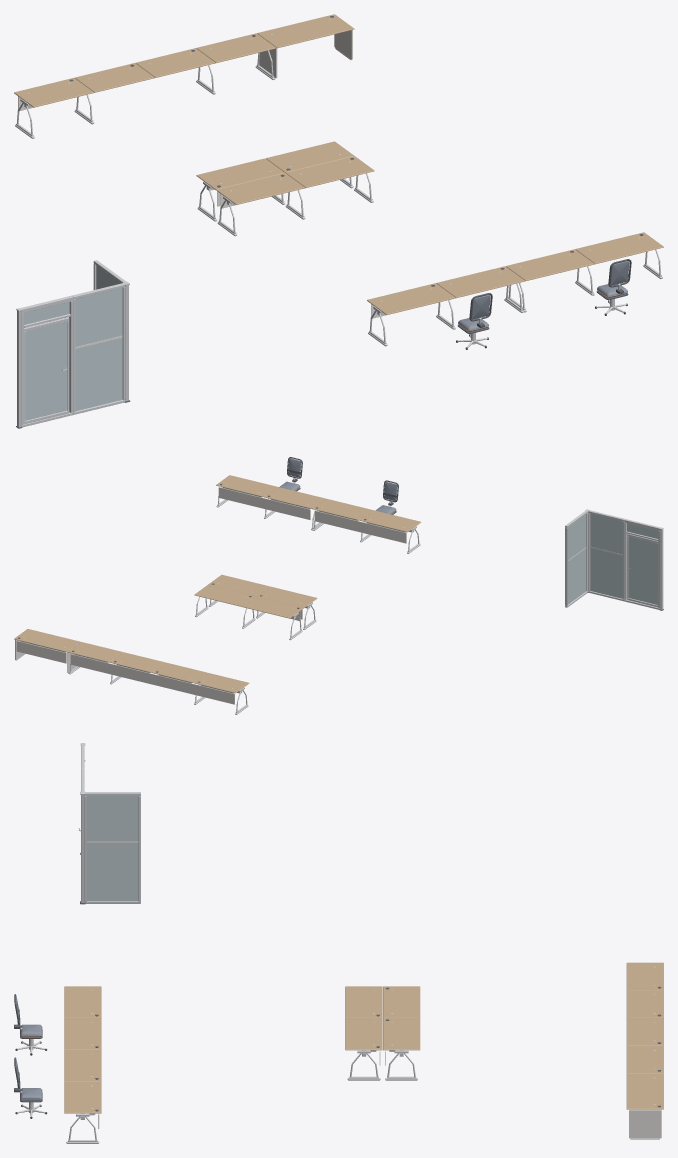
File: downtown-office-interiors-connector-cases-d6274a2d__17068.glb
The picture shows the model from 3 angles, top to bottom: view 1: azimuth 30°, elevation 25°; view 2: azimuth 150°, elevation 25°; view 3: azimuth 270°, elevation 25°; orthographic projection. The views are drawn at different scales.
Visible parts, largest first — view 1: 006-glazed-partition-module/1, 009-bench-desk-4-position/1, 005-glazed-partition-door-module/partition-door/glass, 000-bench-desk-2-position/1, 002-bench-desk-2-position/1, 001-bench-desk-2-position/1, 003-bench-desk-2-position/1, 010-bench-desk-end-bay/2, 005-glazed-partition-door-module/0, 006-glazed-partition-module/0, 009-bench-desk-4-position/0, 010-bench-desk-end-bay/0 (+5 smaller); view 2: 006-glazed-partition-module/1, 009-bench-desk-4-position/1, 009-bench-desk-4-position/3, 005-glazed-partition-door-module/partition-door/glass, 008-glazed-partition-module/1, 003-bench-desk-2-position/1, 000-bench-desk-2-position/1, 001-bench-desk-2-position/1, 002-bench-desk-2-position/1, 000-bench-desk-2-position/3, 001-bench-desk-2-position/3, 005-glazed-partition-door-module/0 (+6 smaller); view 3: 008-glazed-partition-module/1, 009-bench-desk-4-position/1, 002-bench-desk-2-position/1, 003-bench-desk-2-position/1, 001-bench-desk-2-position/1, 000-bench-desk-2-position/1, 010-bench-desk-end-bay/2, 008-glazed-partition-module/0, 010-bench-desk-end-bay/0.
Boxes of the visible parts, <box> form: 006-glazed-partition-module/1: <box>75,287,122,410</box>; 009-bench-desk-4-position/1: <box>14,33,276,107</box>; 005-glazed-partition-door-module/partition-door/glass: <box>26,321,66,420</box>; 000-bench-desk-2-position/1: <box>367,266,524,314</box>; 002-bench-desk-2-position/1: <box>216,156,374,204</box>; 001-bench-desk-2-position/1: <box>506,232,663,280</box>; 003-bench-desk-2-position/1: <box>196,141,354,190</box>; 010-bench-desk-end-bay/2: <box>257,14,354,48</box>; 005-glazed-partition-door-module/0: <box>20,295,73,427</box>; 006-glazed-partition-module/0: <box>72,283,125,414</box>; 009-bench-desk-4-position/0: <box>15,38,275,138</box>; 010-bench-desk-end-bay/0: <box>259,30,352,78</box>; 006-glazed-partition-module/1: <box>590,513,622,598</box>; 009-bench-desk-4-position/1: <box>68,642,249,693</box>; 009-bench-desk-4-position/3: <box>70,654,234,704</box>; 005-glazed-partition-door-module/partition-door/glass: <box>629,536,657,604</box>; 008-glazed-partition-module/1: <box>568,514,586,604</box>; 003-bench-desk-2-position/1: <box>194,585,303,618</box>; 000-bench-desk-2-position/1: <box>312,498,421,532</box>; 001-bench-desk-2-position/1: <box>216,475,325,508</box>; 002-bench-desk-2-position/1: <box>208,574,317,608</box>; 000-bench-desk-2-position/3: <box>314,510,406,543</box>; 001-bench-desk-2-position/3: <box>218,487,310,519</box>; 005-glazed-partition-door-module/0: <box>624,519,660,609</box>; 008-glazed-partition-module/1: <box>87,796,138,900</box>; 009-bench-desk-4-position/1: <box>626,962,663,1073</box>; 002-bench-desk-2-position/1: <box>345,986,382,1050</box>; 003-bench-desk-2-position/1: <box>383,986,420,1050</box>; 001-bench-desk-2-position/1: <box>64,1050,101,1113</box>; 000-bench-desk-2-position/1: <box>64,986,101,1049</box>; 010-bench-desk-end-bay/2: <box>626,1073,663,1109</box>; 008-glazed-partition-module/0: <box>84,792,140,903</box>; 010-bench-desk-end-bay/0: <box>629,1109,661,1139</box>.
Bounding box in the file's own units: 14.68 × 2.6 × 13.87.
